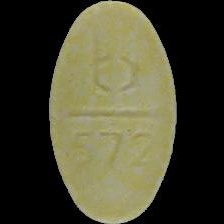42291-594: (0, 0, 224, 224)
